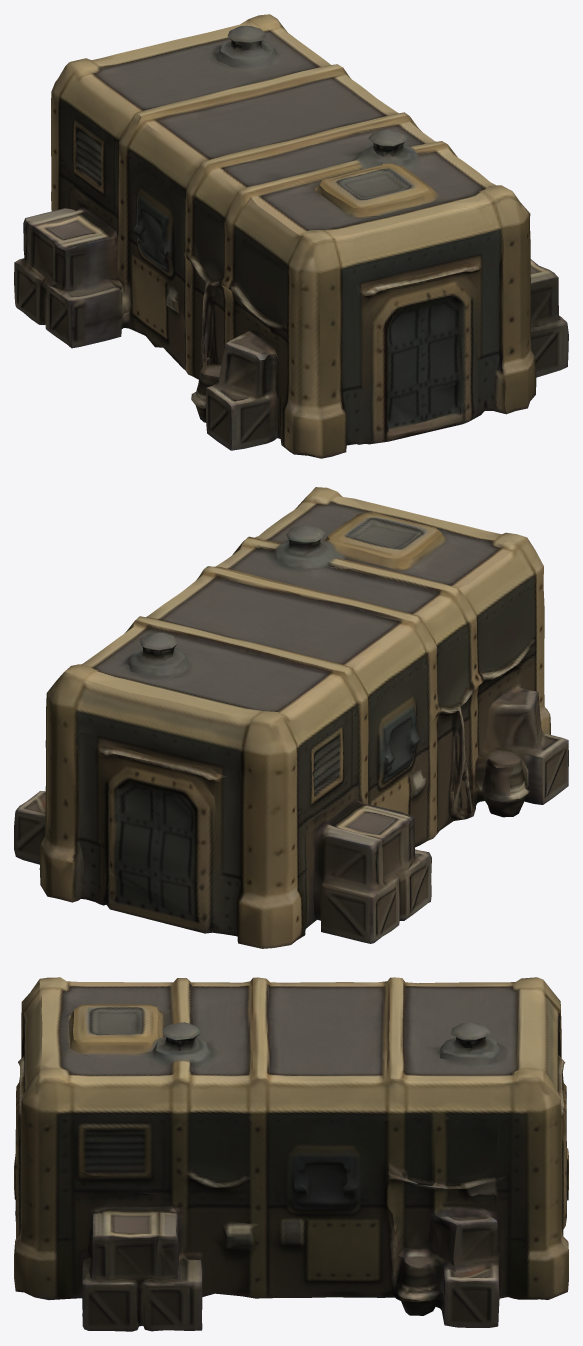
The model's file is Brasswake storage module.glb.
The picture shows the model from 3 angles, top to bottom: view 1: azimuth 30°, elevation 25°; view 2: azimuth 150°, elevation 25°; view 3: azimuth 270°, elevation 25°; orthographic projection. The views are drawn at different scales.
Parts seen in each view (by area): view 1: SciFiBuilding; view 2: SciFiBuilding; view 3: SciFiBuilding.
Part boxes in pixels (x1,y1,x2,y2): SciFiBuilding: (14,14,568,458); SciFiBuilding: (14,487,568,948); SciFiBuilding: (14,977,568,1331).
Bounding box in the file's own units: 1.35 × 0.875 × 1.8.
Materials: 1 (1 with a texture image).
